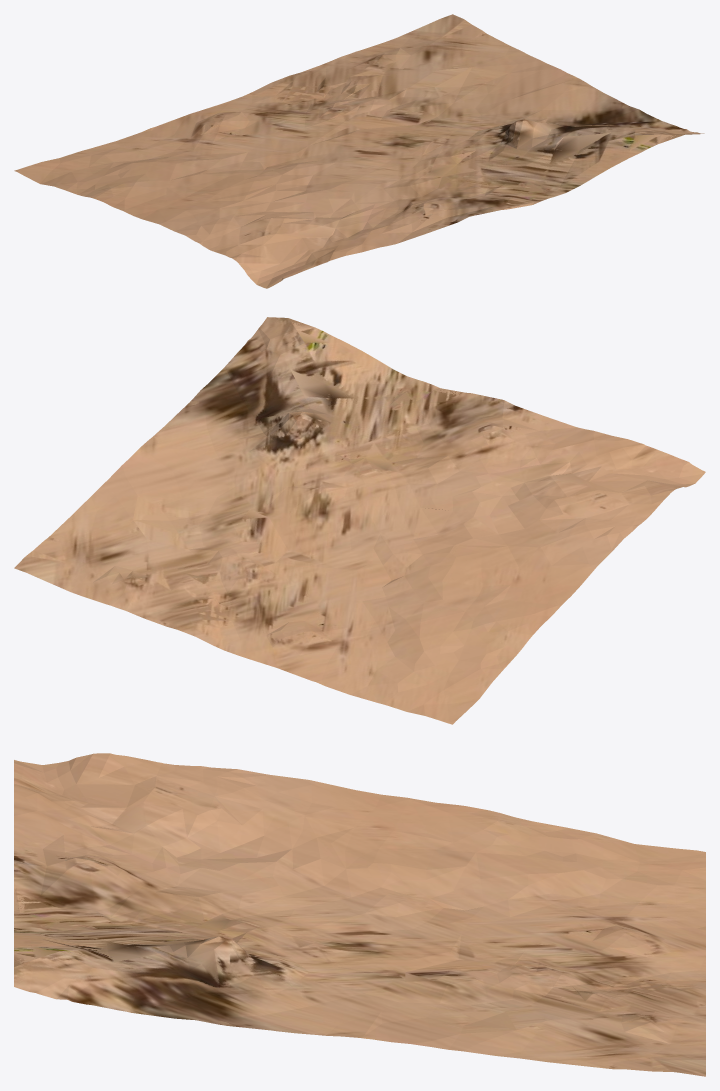
3 views of the same model, one above another, from view 1: azimuth 30°, elevation 25°; view 2: azimuth 150°, elevation 25°; view 3: azimuth 270°, elevation 25° (orthographic). The views are drawn at different scales.
Size of the model in its own units: 2.09 by 0.5439 by 2.09.
2 materials, 2 textured.
